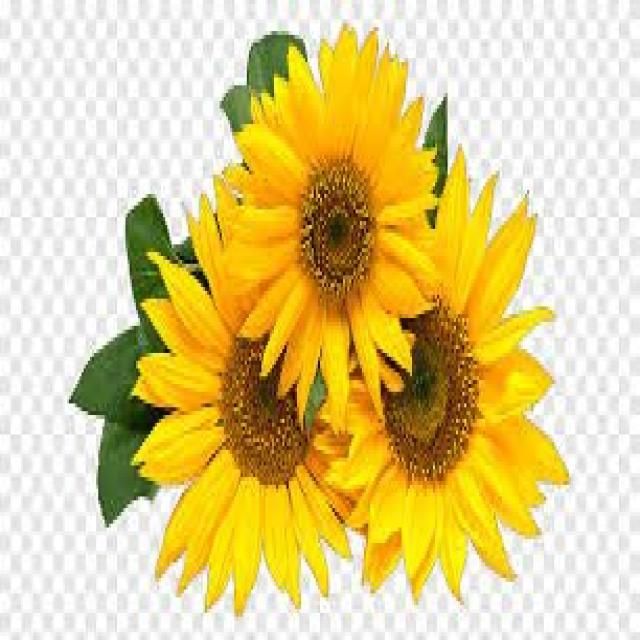sunflower: (325, 145, 570, 607), (130, 180, 353, 619), (212, 15, 442, 423)
